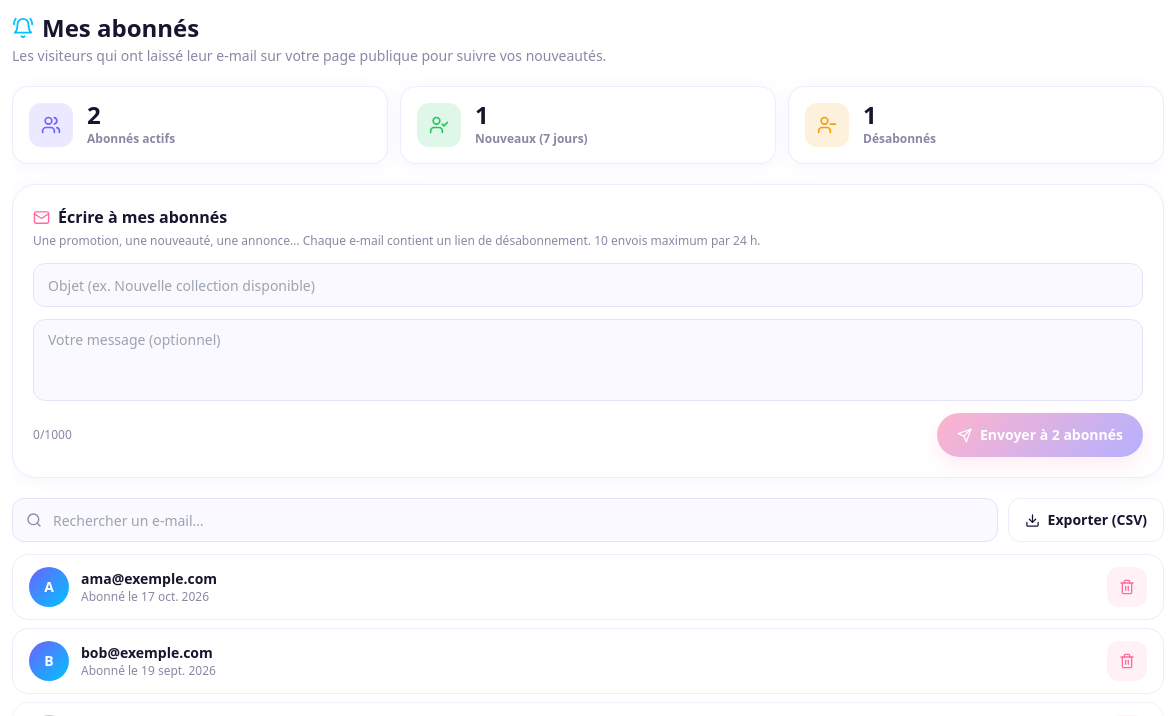
Test: Subscribers (tableau de bord) › retire un abonné après confirmation
The image size is (1176, 716).
expect the text "bob@exemple.com" is shown: met, box [81,643,213,662]
Click the button named "Retirer bob@exemple.com".
click(1127, 661)  # box [1107,641,1147,681]
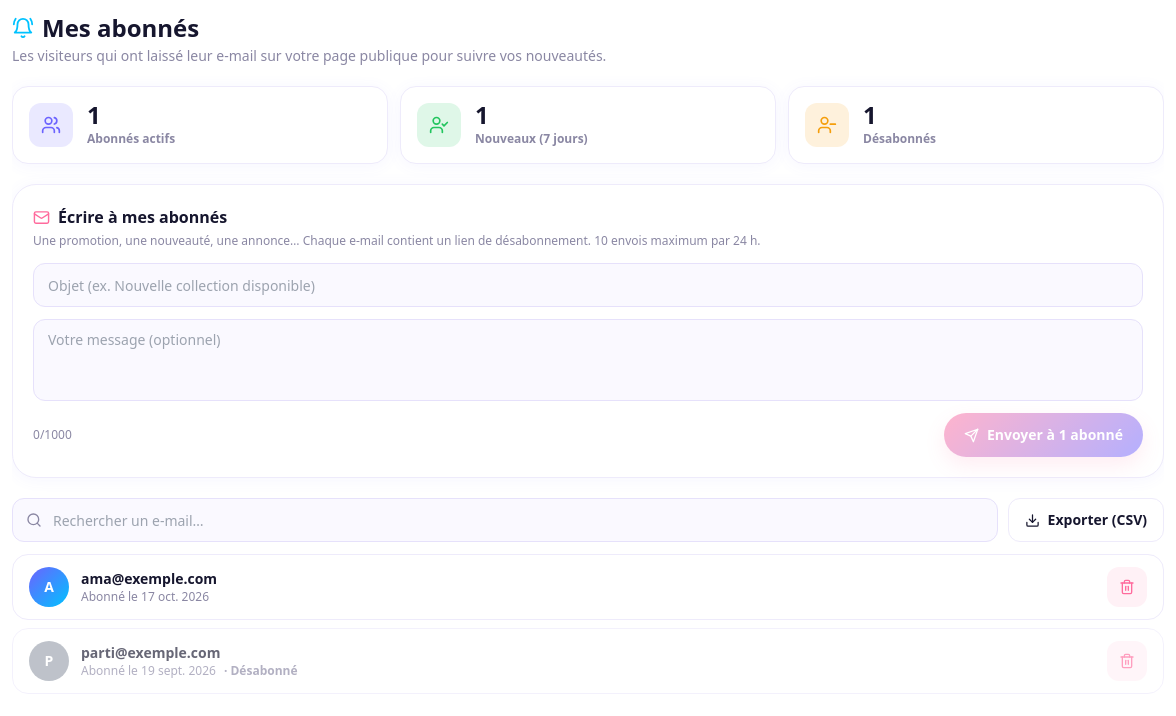
expect the text "bob@exemple.com" is gone: met
